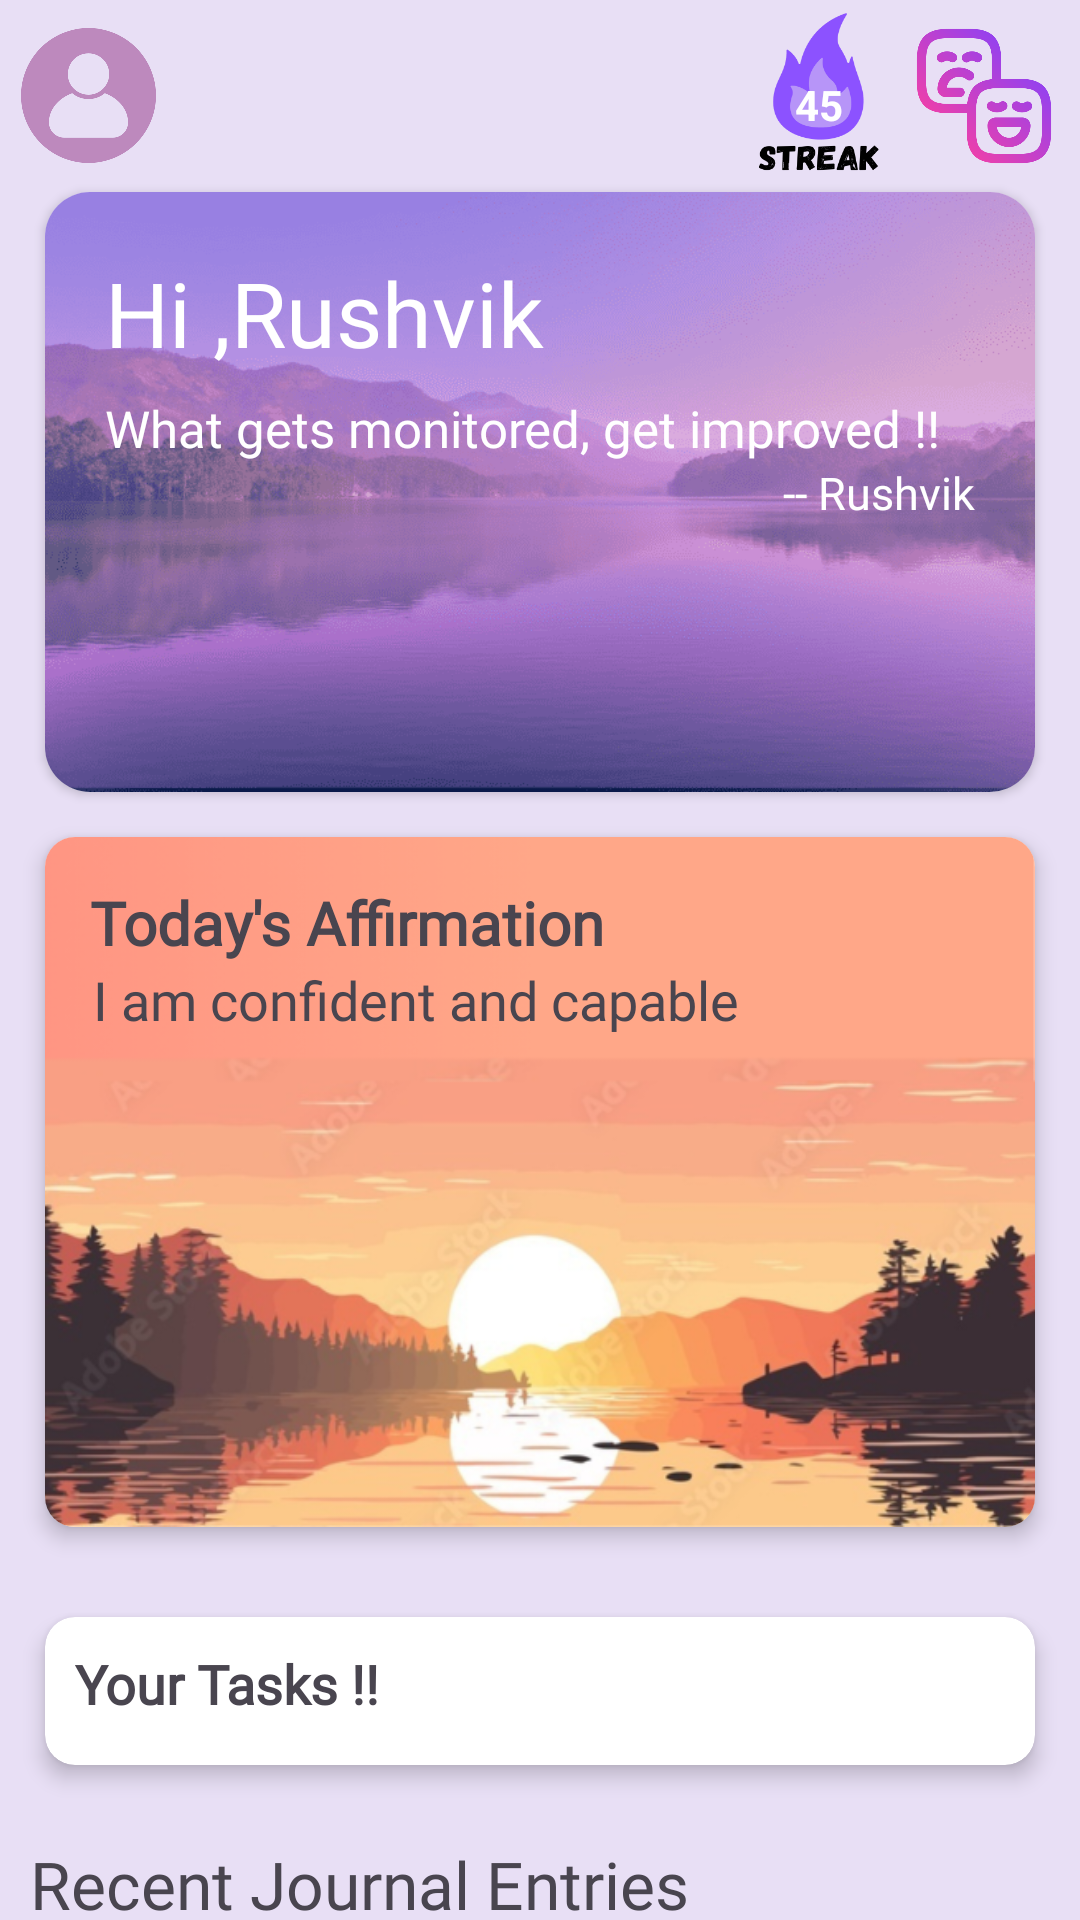

Screen size 1080×1920. Icon name, then its center in pixels as [x,y]:
profile: [88,95]
